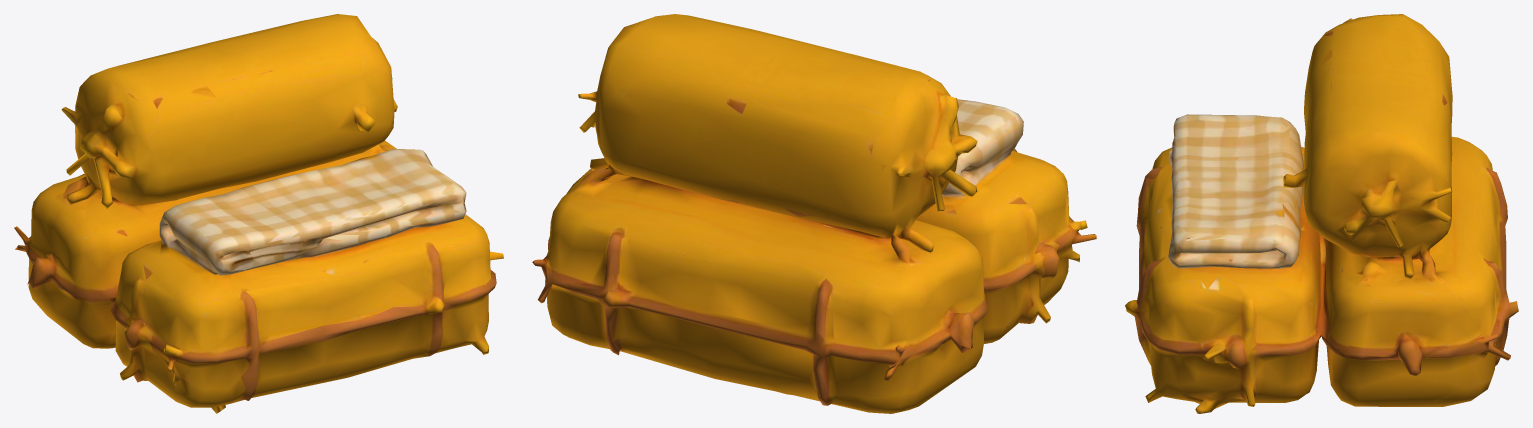
The picture shows the model from 3 angles, left to right: view 1: azimuth 30°, elevation 25°; view 2: azimuth 150°, elevation 25°; view 3: azimuth 270°, elevation 25°; orthographic projection. The views are drawn at different scales.
Parts seen in each view (by area): view 1: hay-bench; view 2: hay-bench; view 3: hay-bench.
Boxes of the visible parts, x1,y1,x2,y2 form: hay-bench: (14, 14, 503, 413); hay-bench: (532, 14, 1096, 413); hay-bench: (1125, 14, 1518, 413).
Size of the model in its own units: 1.47 by 1 by 1.31.
Materials: 1 (1 with a texture image).
